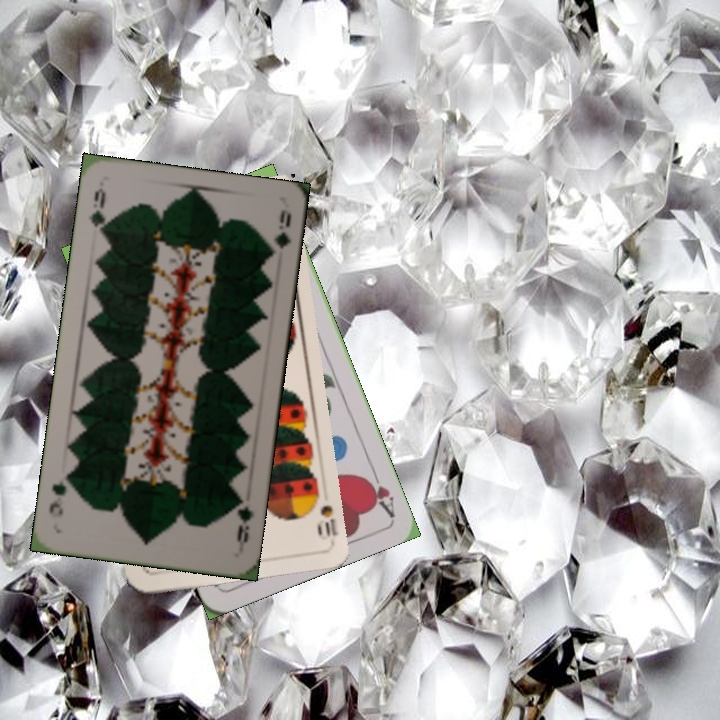G9: (230, 492, 257, 552), (84, 184, 109, 239)
HA: (360, 462, 397, 519)
S10: (309, 486, 340, 539)
